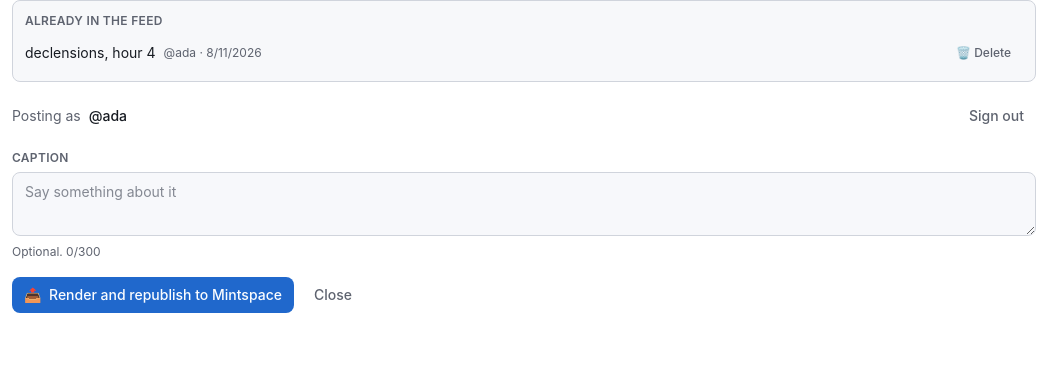
deleting a published video › asks first, since it is gone from the feed for good
The width and height of the screenshot is (1048, 366).
Click the button "🗑 Delete" at (984, 53), box [944,37,1023,69]
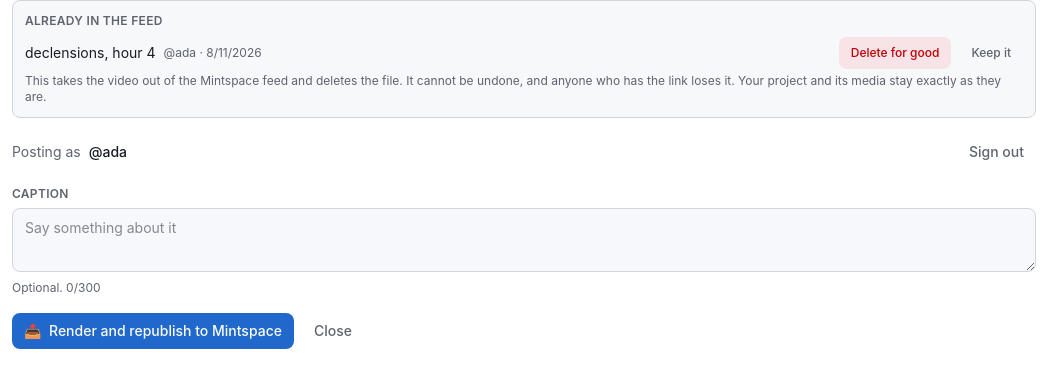
Expected: the text "cannot be undone" is shown, [25,73,1001,104]
